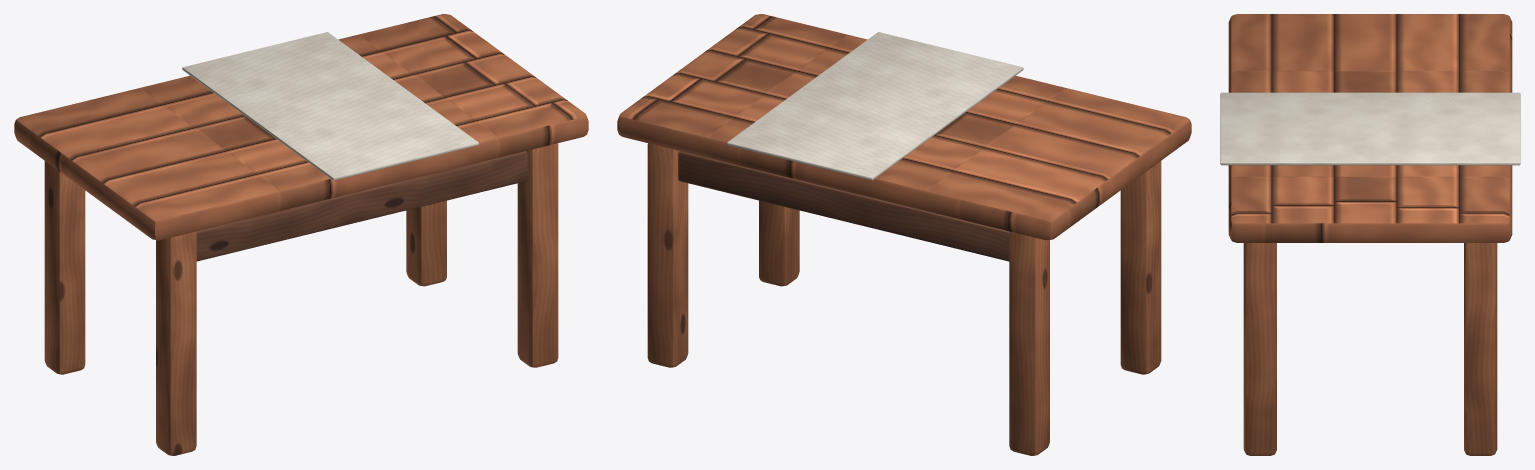
File: table.gltf
3 renders of one model, left to right at view 1: azimuth 30°, elevation 25°; view 2: azimuth 150°, elevation 25°; view 3: azimuth 270°, elevation 25°, orthographic.
Parts seen in each view (by area): view 1: table_mesh; view 2: table_mesh; view 3: table_mesh.
Part boxes in pixels (x1,y1,x2,y2): table_mesh: [14, 14, 588, 455]; table_mesh: [617, 14, 1191, 455]; table_mesh: [1220, 14, 1520, 455].
Size of what is drawn, in the model's own units: 1.5 by 0.83 by 0.9.
4 materials, 4 textured.
